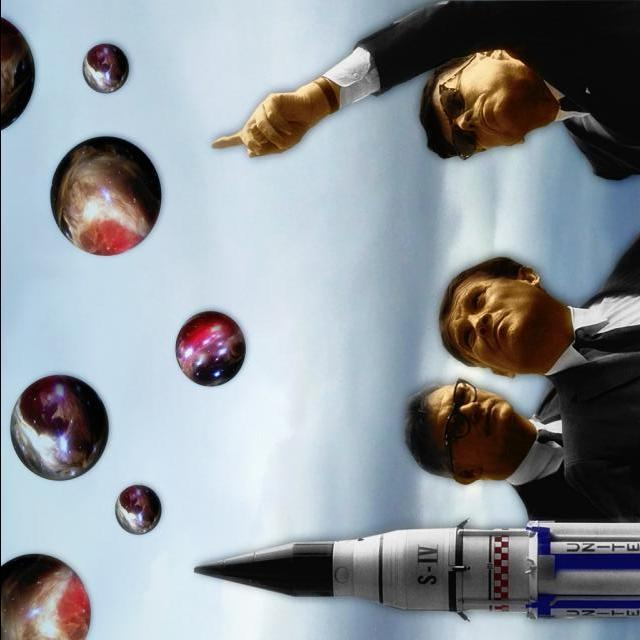missile: (178, 514, 640, 628)
